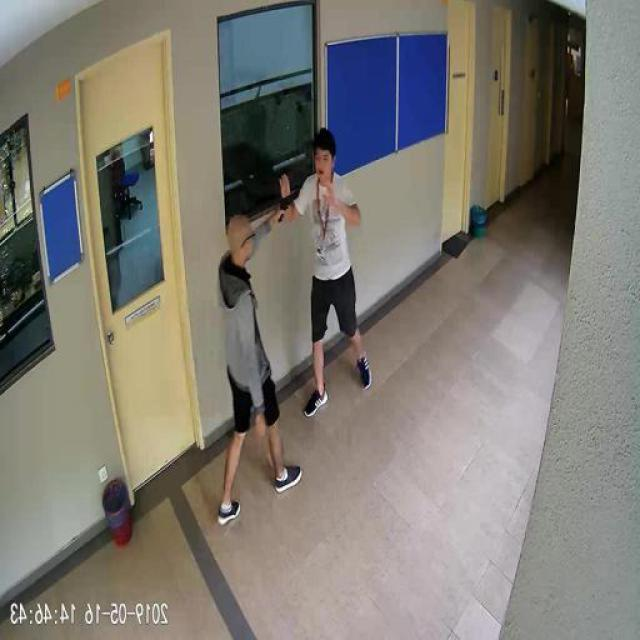weapon: (273, 190, 303, 226)
